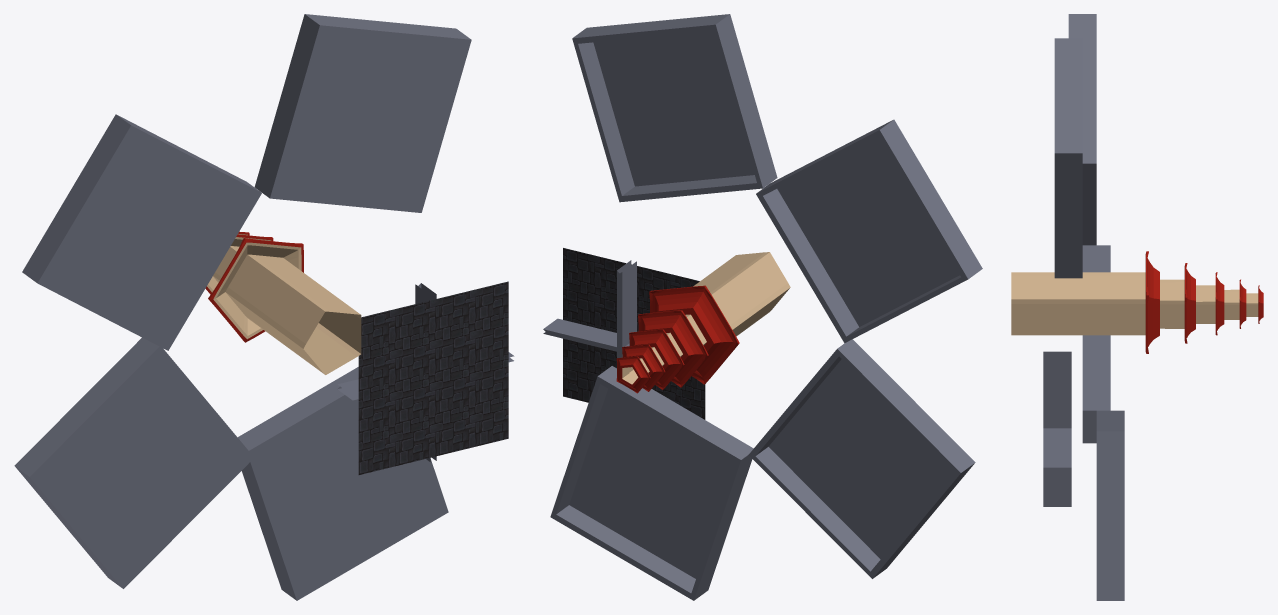
Rendered from wall_right.dae.
3 views of the same model, side by side, from view 1: azimuth 30°, elevation 25°; view 2: azimuth 150°, elevation 25°; view 3: azimuth 270°, elevation 25° (orthographic). The views are drawn at different scales.
Visible parts, largest first — view 1: Cube_030, Cube_035, Plane_010; view 2: Cube_030, Plane_010, Cube_035, Cube_031, Cube_032; view 3: Cube_030, Plane_010, Cube_031, Cube_032, Cube_033.
Boxes of the visible parts, left/top/right/bottom form: Cube_030: left=14, top=14, right=471, bottom=600; Cube_035: left=358, top=281, right=508, bottom=474; Plane_010: left=205, top=231, right=361, bottom=374; Cube_030: left=550, top=14, right=982, bottom=600; Plane_010: left=616, top=252, right=790, bottom=393; Cube_035: left=563, top=248, right=705, bottom=419; Cube_031: left=617, top=261, right=636, bottom=358; Cube_032: left=543, top=321, right=629, bottom=352; Cube_030: left=1054, top=14, right=1124, bottom=600; Plane_010: left=1011, top=251, right=1263, bottom=353; Cube_031: left=1043, top=351, right=1071, bottom=502; Cube_032: left=1043, top=428, right=1071, bottom=467; Cube_033: left=1043, top=354, right=1071, bottom=506.
Bounding box in the file's own units: 24.67 × 12.73 × 30.14.
Materials: 4 (1 with a texture image).
